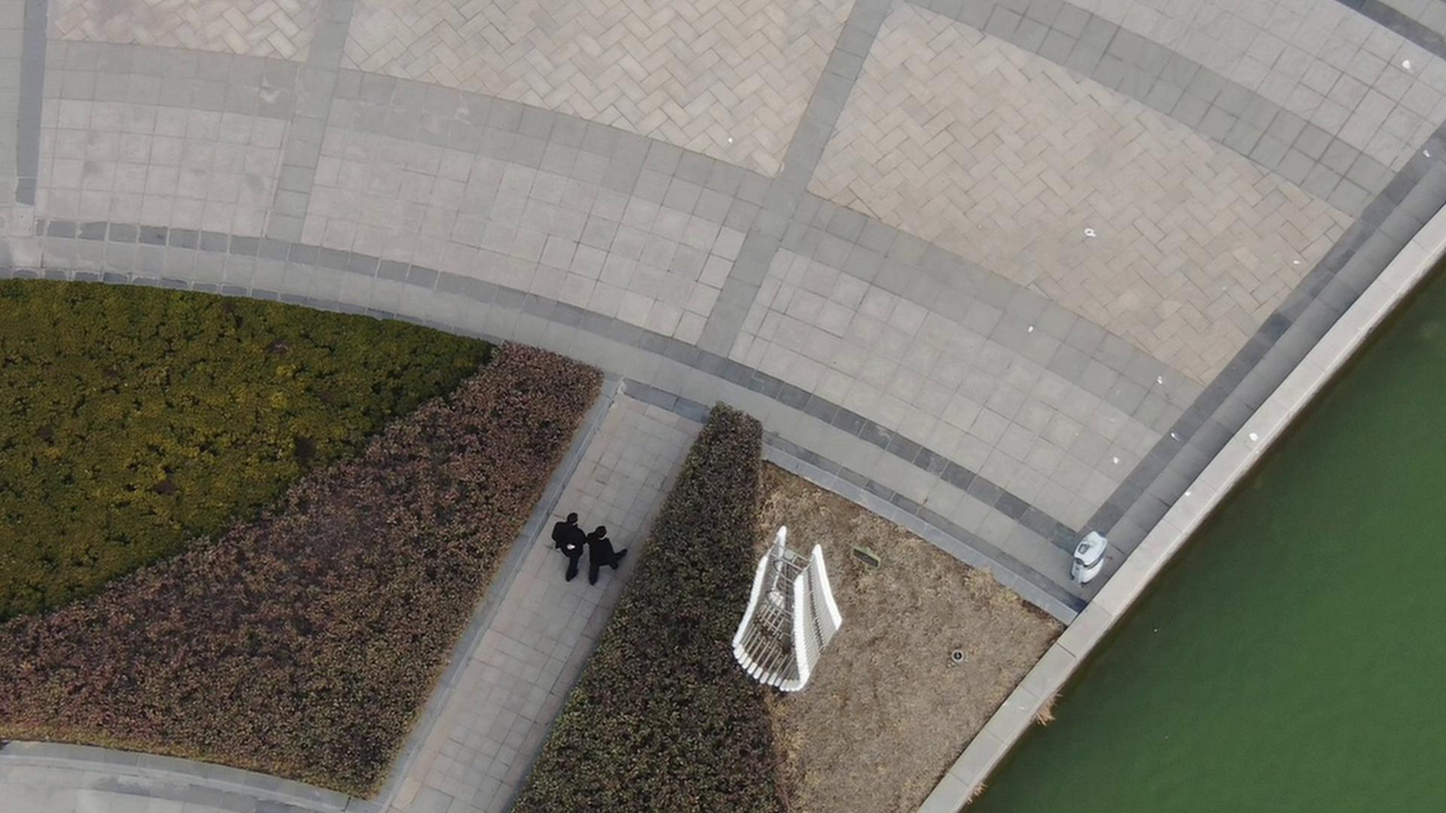human: (580, 513, 627, 577), (546, 505, 583, 574)
